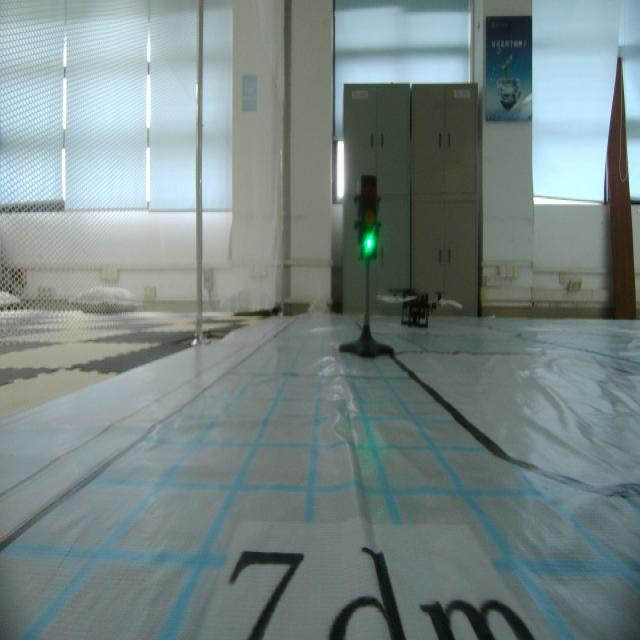green: (354, 170, 382, 266)
